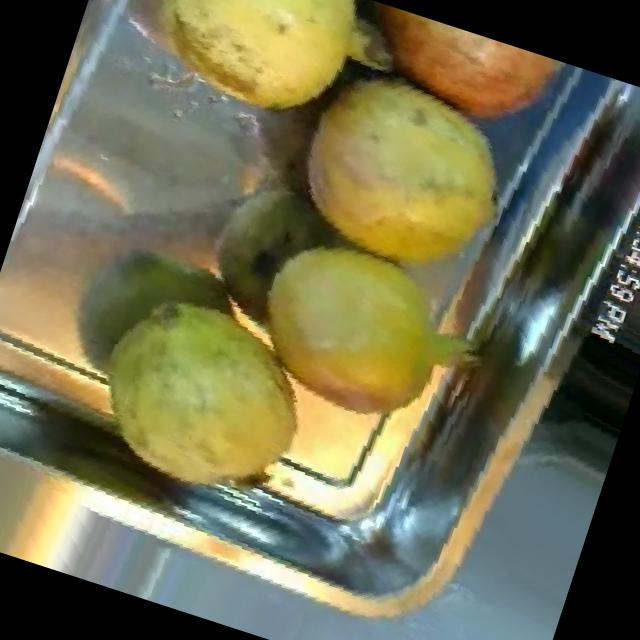fruit: (246, 26, 556, 322), (42, 246, 356, 538), (204, 194, 498, 472), (109, 0, 395, 162)
